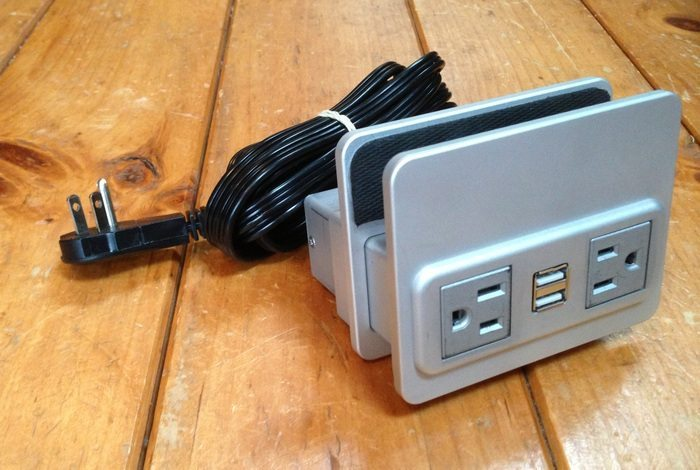outlet: (445, 277, 505, 337), (585, 239, 644, 298)
